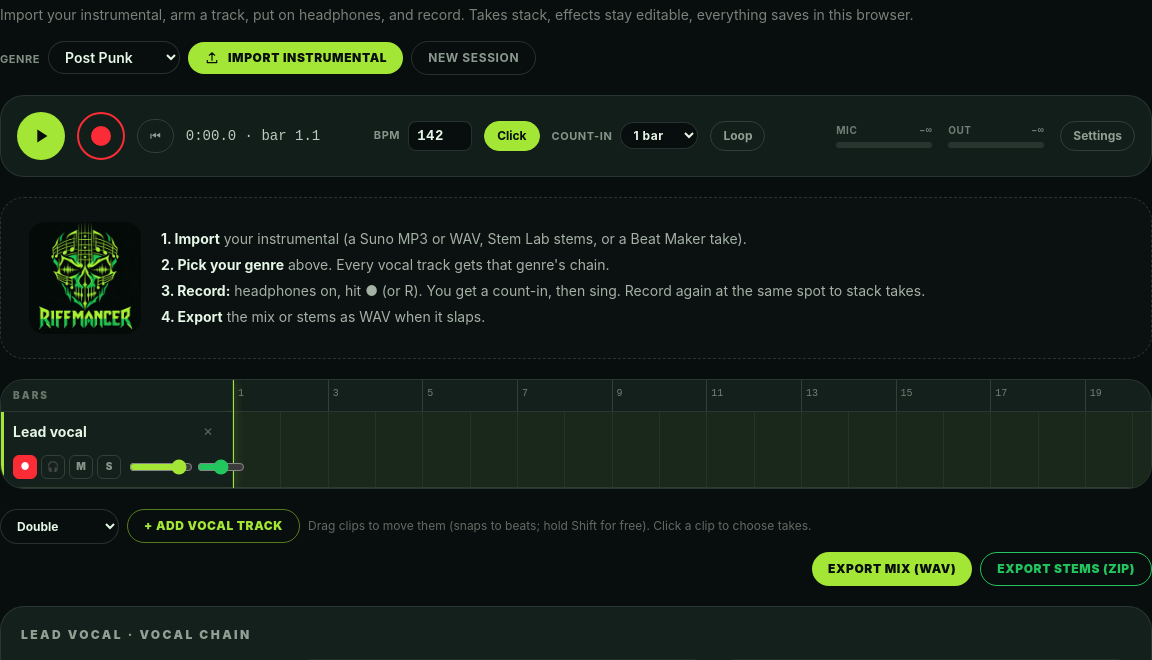
Scenario: Studio › switches genre presets and adds tracks
Select "Metal" in the dropdown named "Session genre" at (114, 58), box [48,41,180,74]
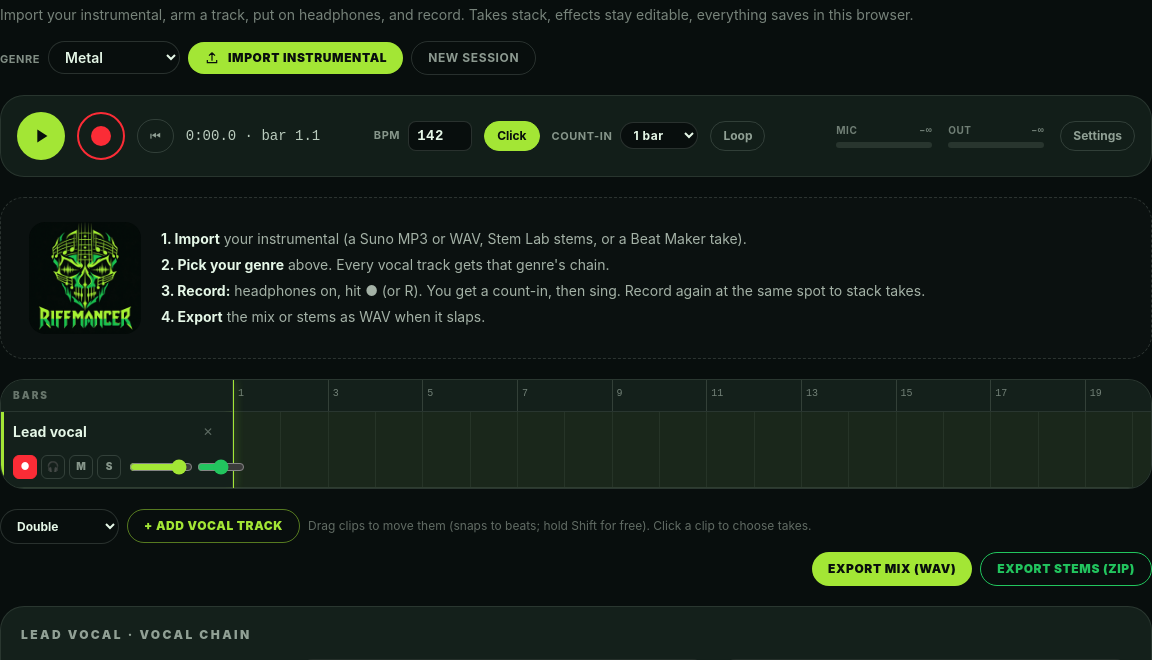
Select "Screams" in the dropdown named "New track type" at (60, 526), box [0,508,119,544]
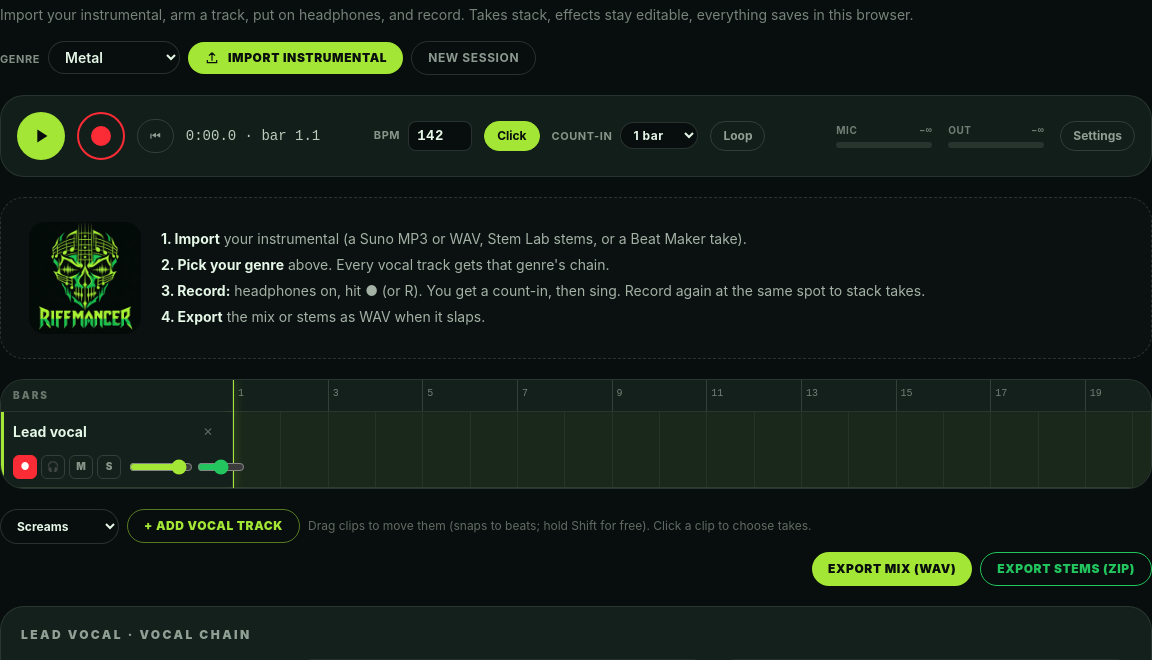
Click the button "+ Add vocal track" at (214, 526), box [127,509,300,543]
(page scrolled)
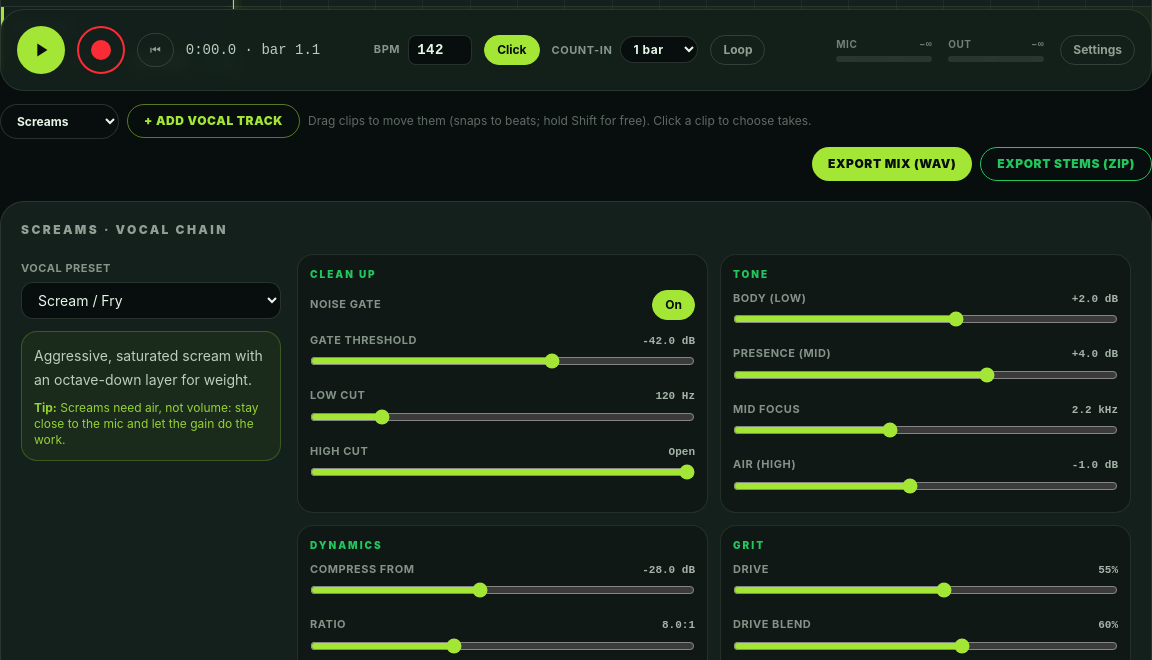
Expected: the dropdown labelled "Vocal preset" shows "Scream / Fry", [21,282,281,318]
